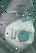with_mask: (1, 2, 36, 53)
